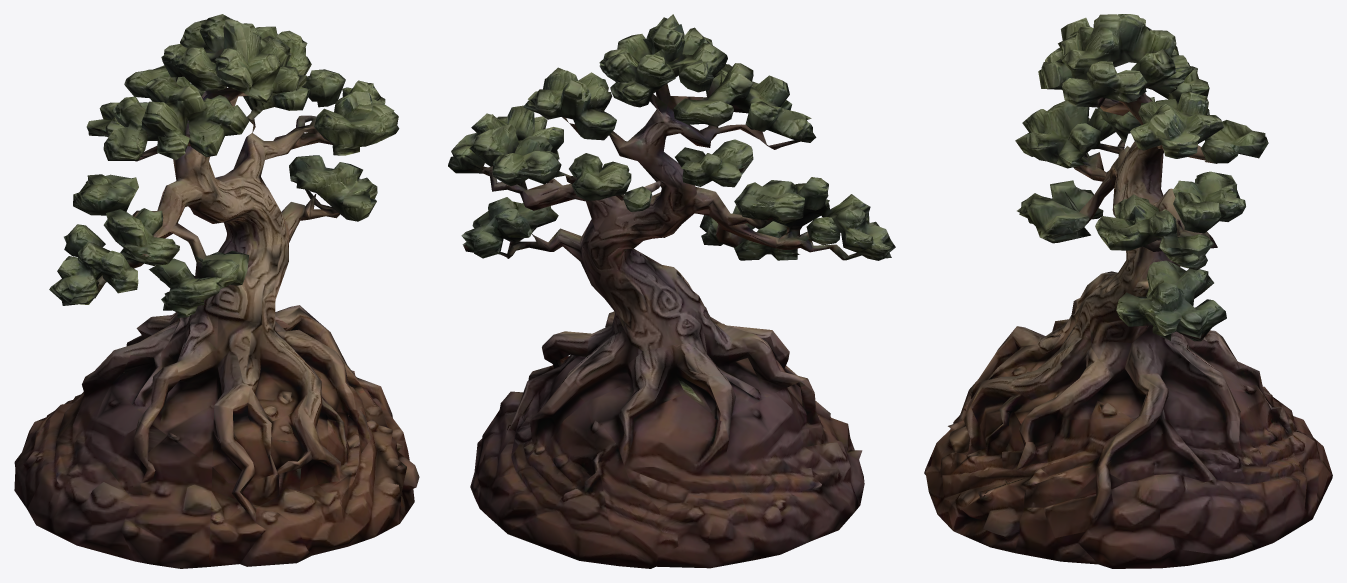
File: ganhe_jia_ji.glb
The picture shows the model from 3 angles, left to right: view 1: azimuth 30°, elevation 25°; view 2: azimuth 150°, elevation 25°; view 3: azimuth 270°, elevation 25°; orthographic projection. The views are drawn at different scales.
Parts seen in each view (by area): view 1: tripo_node_b90b8bc9-d145-4ed9-93d8-cee41d125473; view 2: tripo_node_b90b8bc9-d145-4ed9-93d8-cee41d125473; view 3: tripo_node_b90b8bc9-d145-4ed9-93d8-cee41d125473.
Boxes of the visible parts, left/top/right/bottom form: tripo_node_b90b8bc9-d145-4ed9-93d8-cee41d125473: left=14, top=14, right=419, bottom=568; tripo_node_b90b8bc9-d145-4ed9-93d8-cee41d125473: left=448, top=14, right=895, bottom=568; tripo_node_b90b8bc9-d145-4ed9-93d8-cee41d125473: left=924, top=14, right=1332, bottom=568.
Bounding box in the file's own units: 0.8617 × 0.9986 × 0.7814.
1 material, 1 textured.
